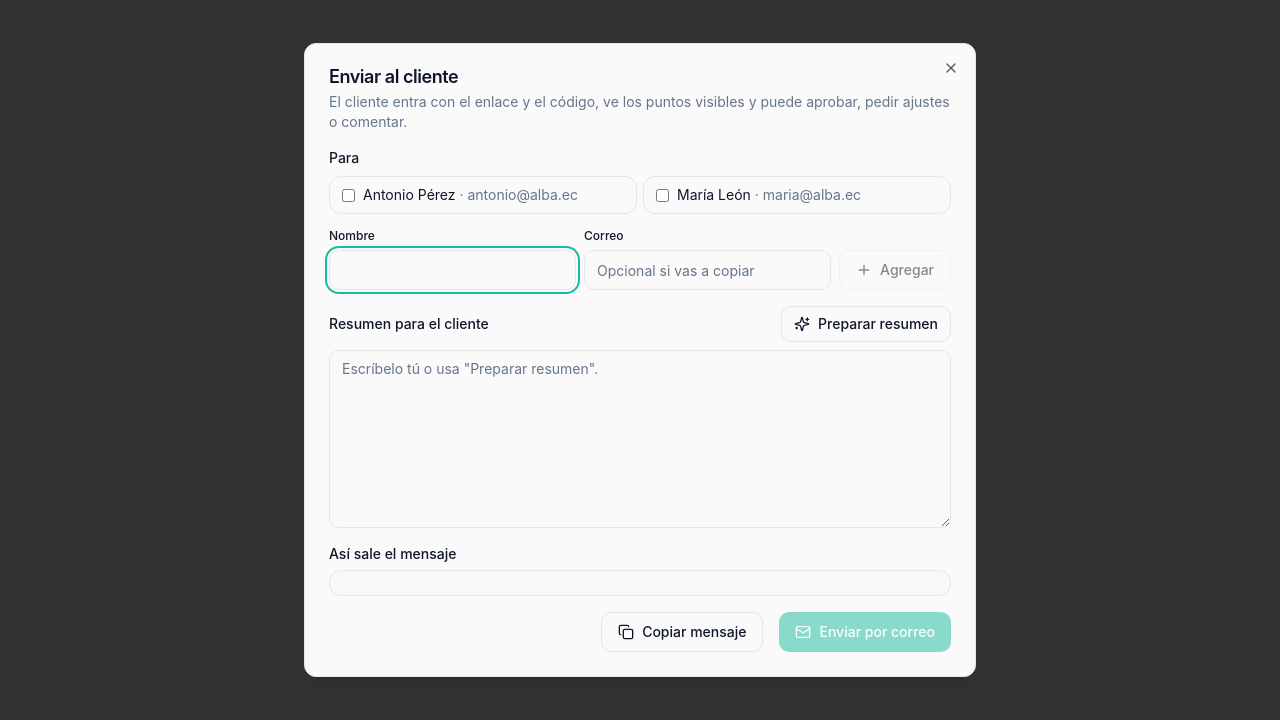
Test case: EnviarAlClienteDialog › muestra la vista previa del mensaje tal como sale
Click the checkbox named "María León (maria@alba.ec)" at x=662, y=195, box [656,188,669,202]
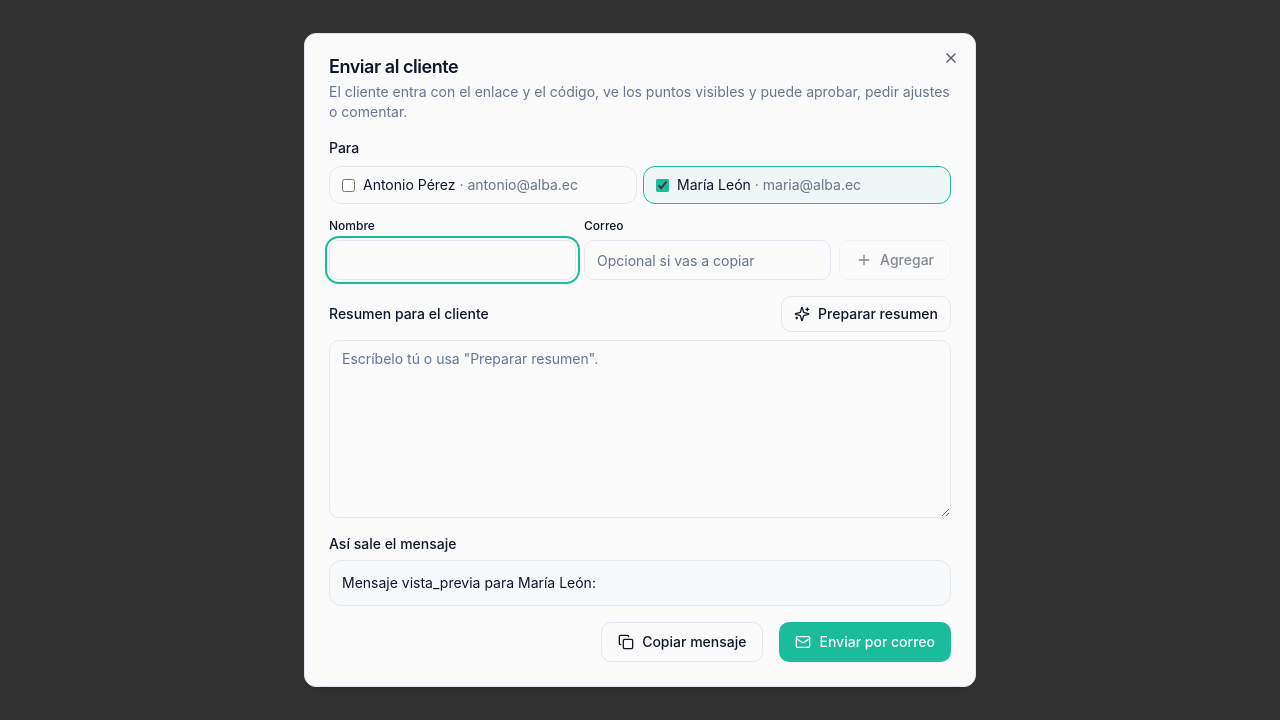
Now the text "Mensaje vista_previa para María León:" is shown, box [329,560,951,606]
